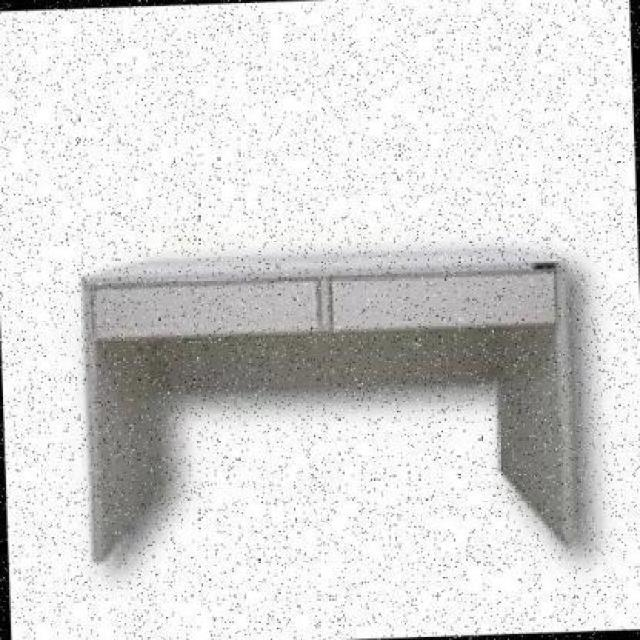tables: (80, 250, 586, 564)
